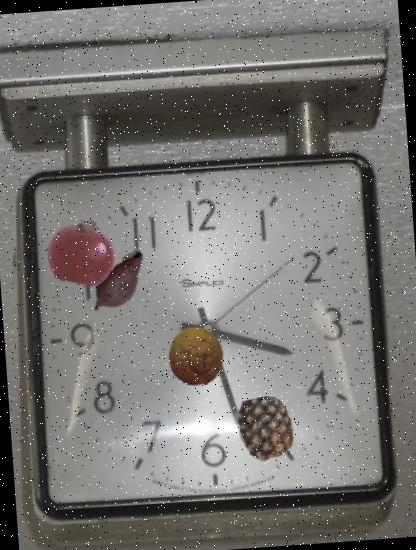Mandarine: (164, 324, 228, 388)
Pineapple: (232, 394, 300, 462)
Redcurrant: (45, 214, 119, 288)
Salak: (79, 242, 160, 324)
